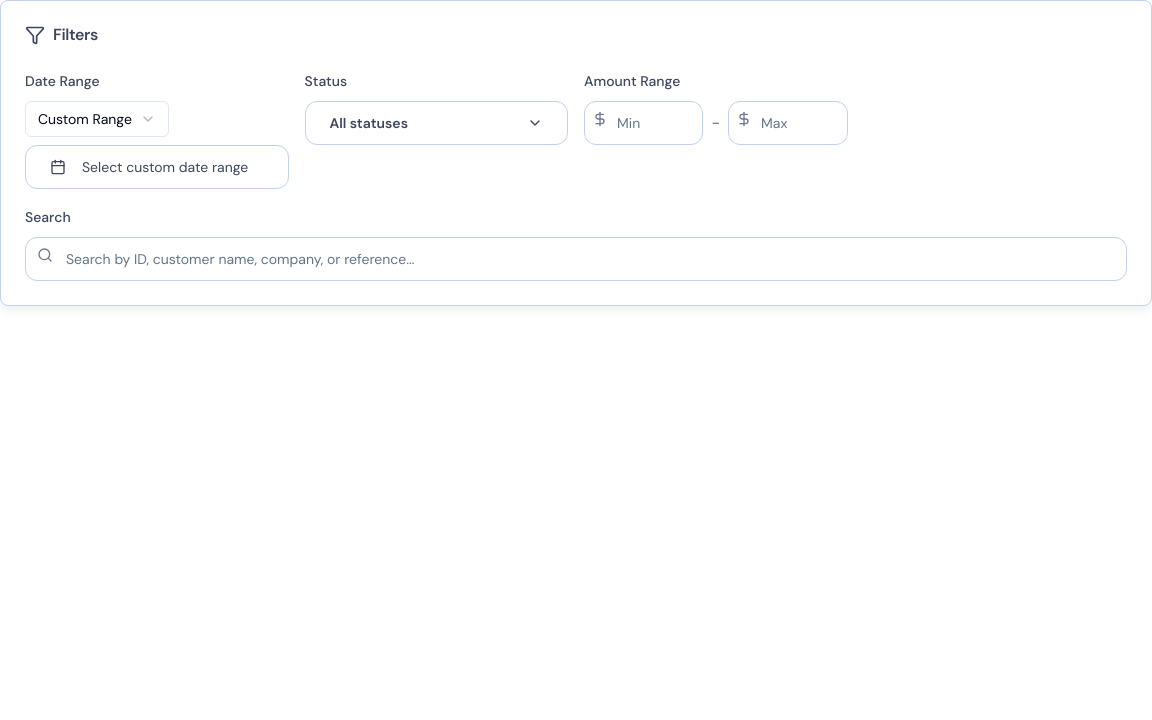
BillingFilters › should open calendar popover when custom date picker button is clicked
This screenshot has width=1152, height=720.
Click the button "Select custom date range". click: (157, 167)
box: [25,145,288,189]
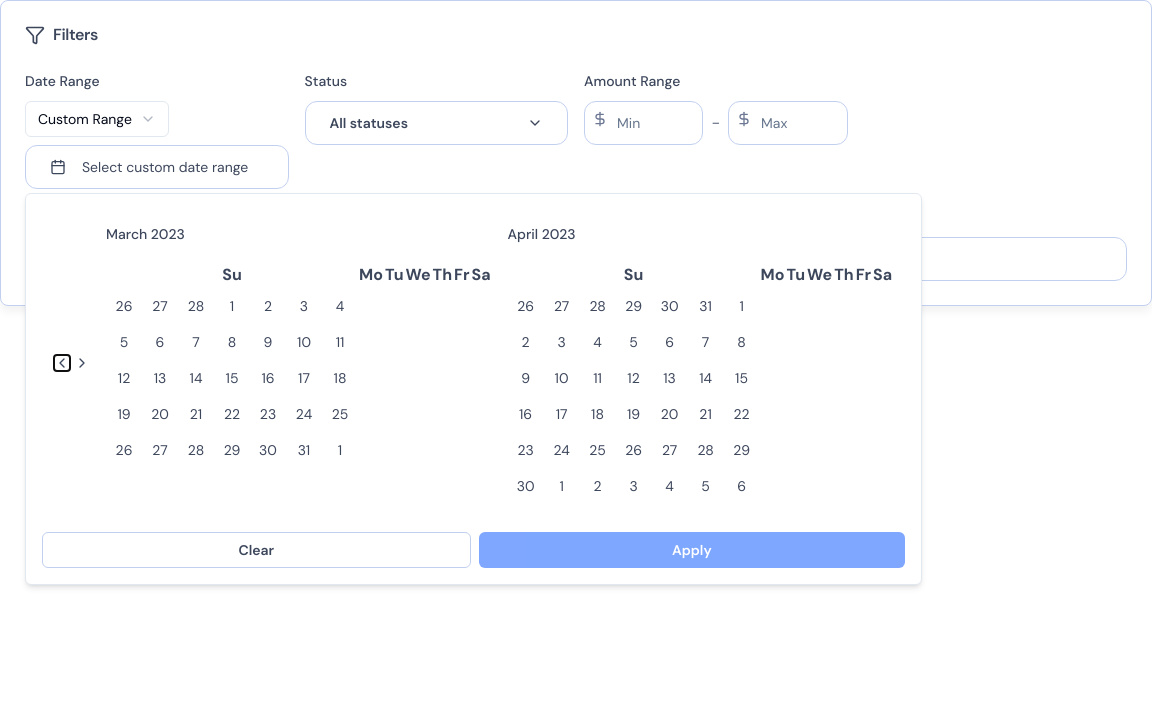
Check: the button "Apply" is shown, box [479,532,905,568]
Check: the button "Clear" is shown, box [42,532,471,568]
